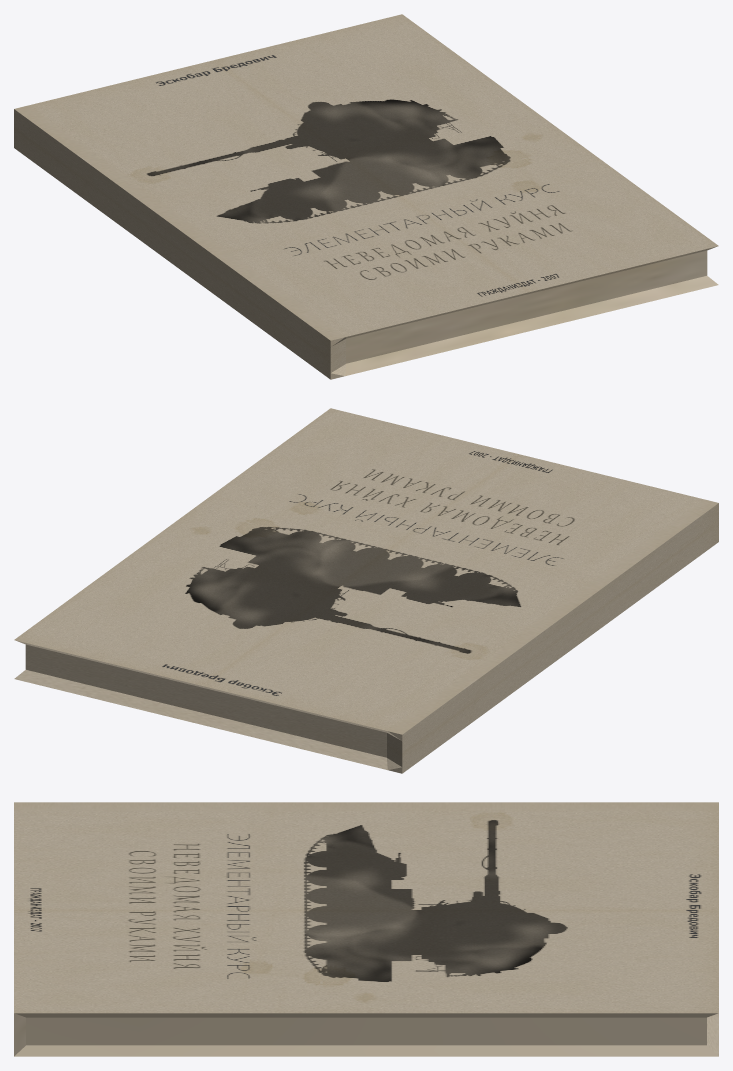
File: книга.glb
The picture shows the model from 3 angles, top to bottom: view 1: azimuth 30°, elevation 25°; view 2: azimuth 150°, elevation 25°; view 3: azimuth 270°, elevation 25°; orthographic projection. The views are drawn at different scales.
Size of the model in its own units: 1.98 by 0.1899 by 2.79.
Materials: 1 (1 with a texture image).
